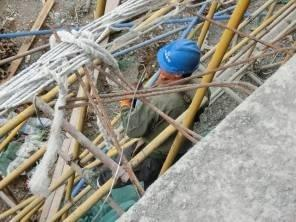helmet: (156, 39, 203, 78)
